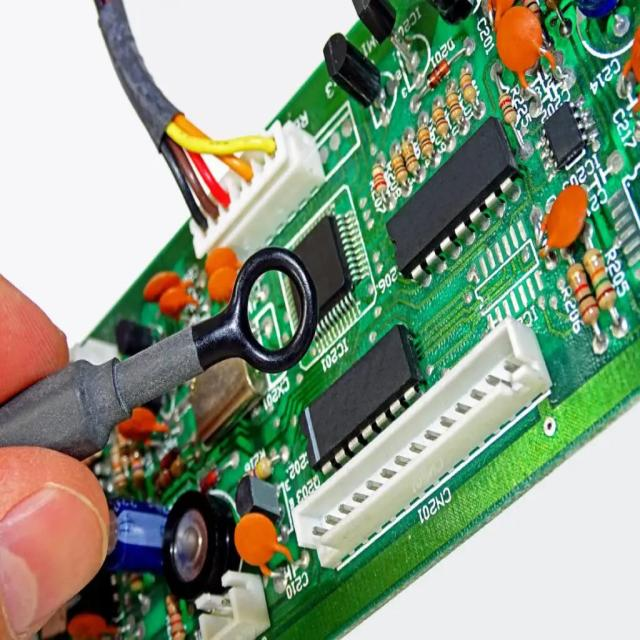IC: (383, 109, 526, 300), (301, 321, 426, 495), (538, 92, 594, 178)
ceramic capacitor: (494, 4, 558, 102), (235, 513, 299, 598), (530, 182, 590, 270)
resistor: (580, 240, 626, 328), (565, 262, 605, 342), (413, 121, 435, 166), (389, 146, 408, 198), (368, 160, 388, 208), (456, 67, 476, 110), (401, 138, 420, 182), (429, 102, 448, 142), (442, 88, 459, 126)
transistor: (319, 30, 395, 127), (348, 0, 430, 67), (234, 473, 289, 531)
